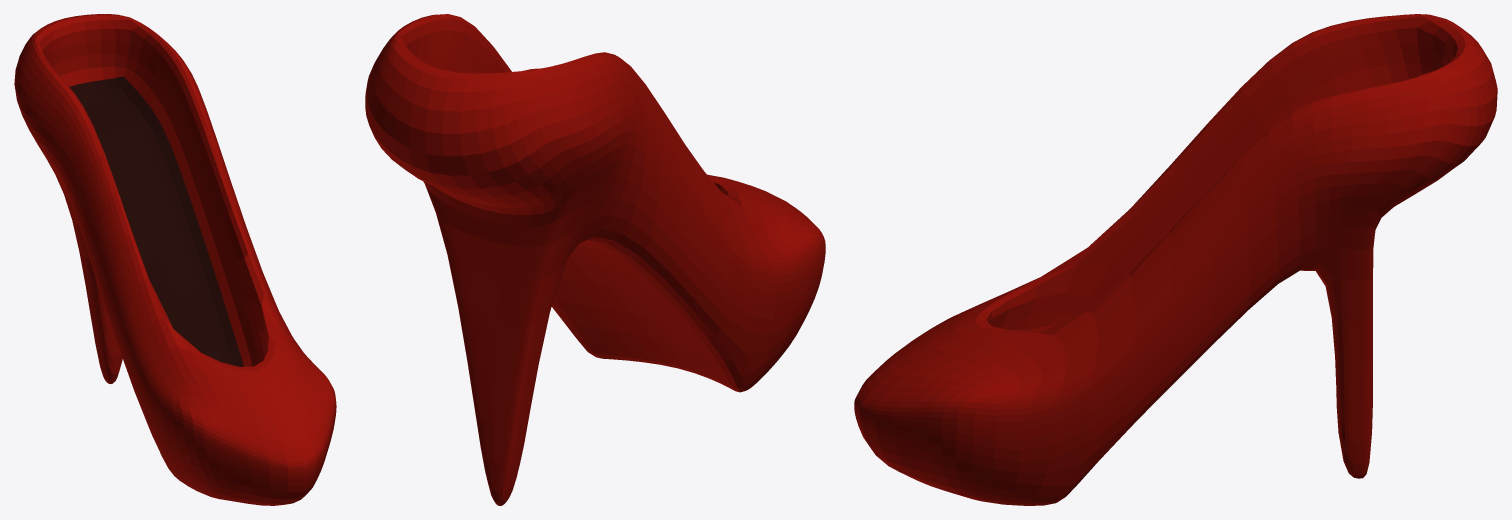
File: obojena stikla (1).fbx
The picture shows the model from 3 angles, left to right: view 1: azimuth 30°, elevation 25°; view 2: azimuth 150°, elevation 25°; view 3: azimuth 270°, elevation 25°; orthographic projection. The views are drawn at different scales.
Visible parts, largest first — view 1: Cube; view 2: Cube; view 3: Cube.
Boxes of the visible parts, x1=… form: Cube: x1=14, y1=14, x2=336, y2=505; Cube: x1=365, y1=14, x2=825, y2=505; Cube: x1=854, y1=14, x2=1497, y2=505.
Size of the model in its own units: 76.69 by 162 by 218.
